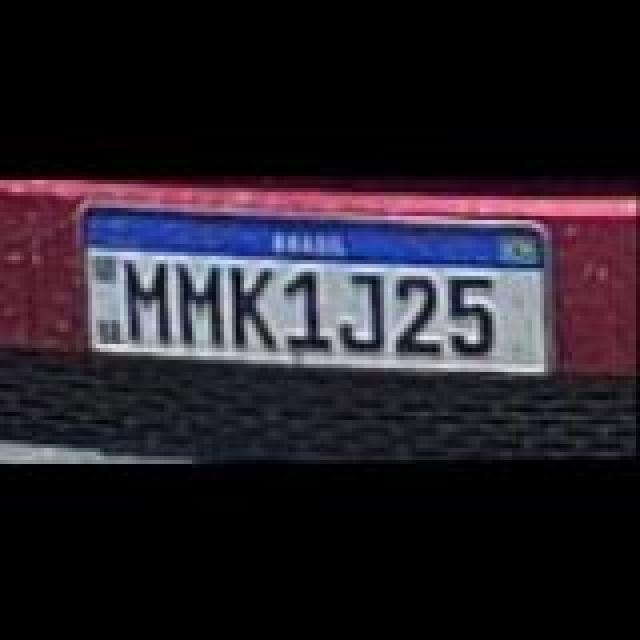1: (284, 268, 336, 352)
2: (392, 272, 444, 356)
5: (448, 272, 500, 356)
J: (342, 268, 390, 352)
K: (228, 262, 280, 350)
M: (122, 256, 178, 344), (176, 258, 228, 346)
